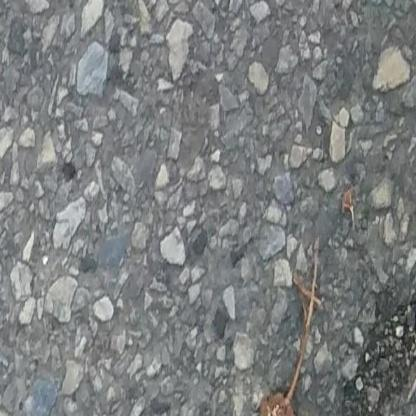Cracks: (336, 279, 416, 416)
